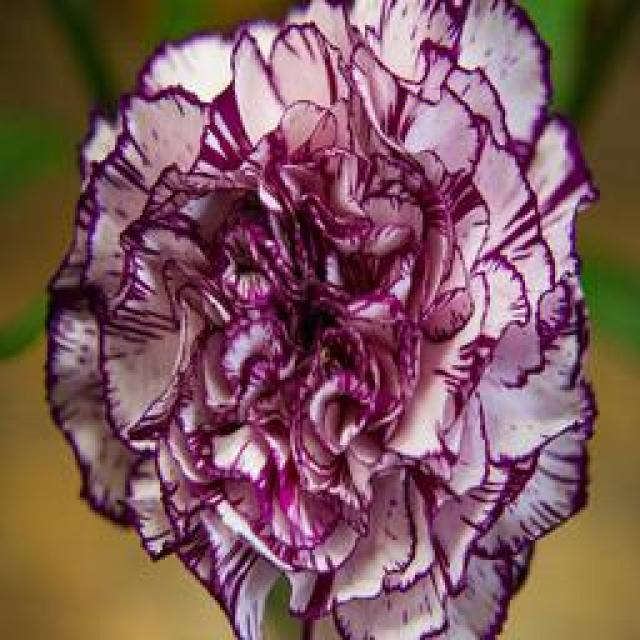carnation: (54, 14, 618, 624)
